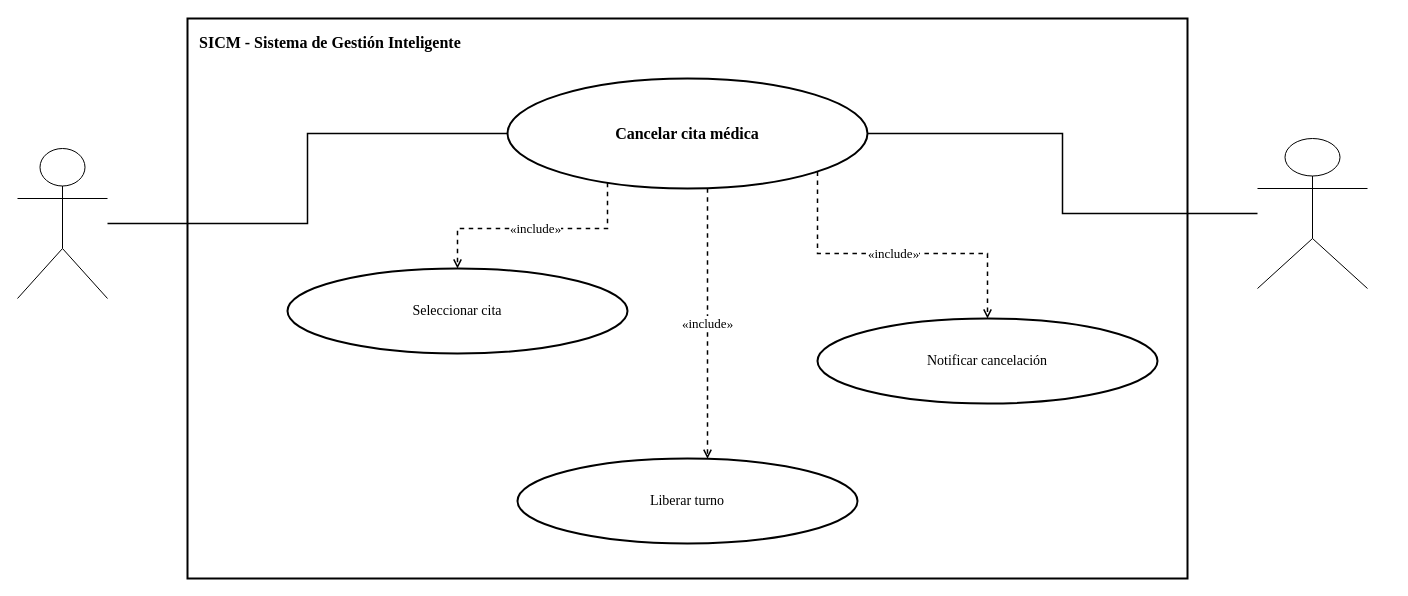
Some shapes in this 1408 by 596 pixel diagram are drawn without their labels. Here are the shapes that lost their labels. From the top down, the box of each, then its label:
(16, 148, 108, 298): Paciente
(1256, 138, 1368, 288): Sistema de Notificaciones
